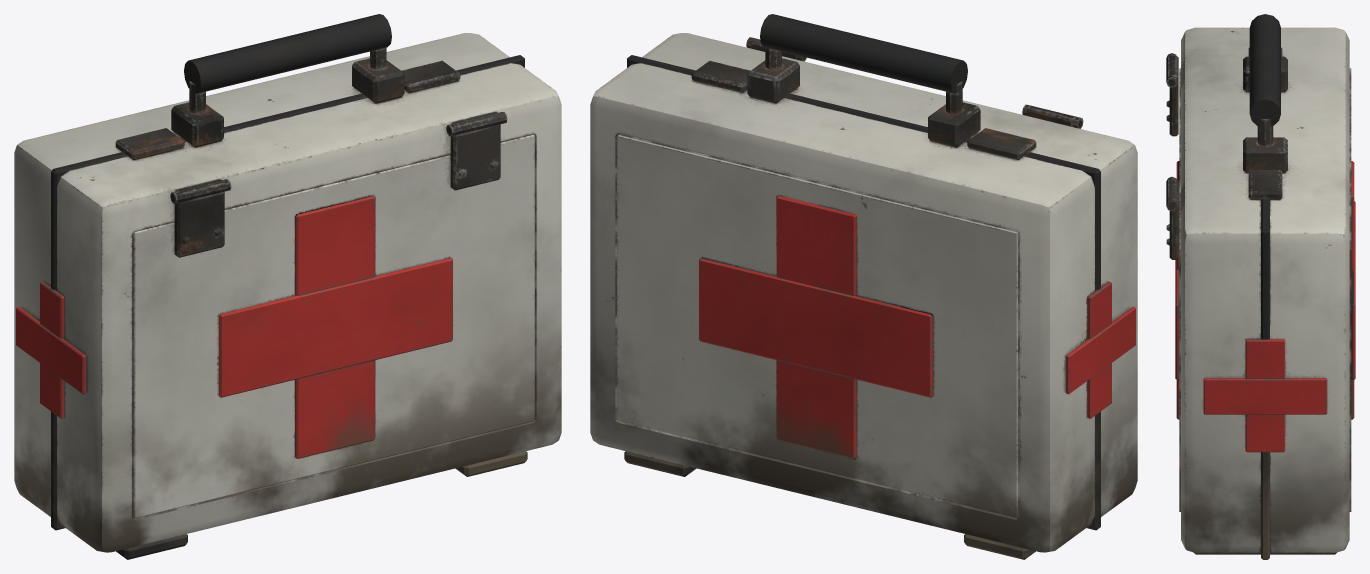
The model's file is health_pack.glb.
3 views of the same model, side by side, from view 1: azimuth 30°, elevation 25°; view 2: azimuth 150°, elevation 25°; view 3: azimuth 270°, elevation 25° (orthographic). The views are drawn at different scales.
Parts seen in each view (by area): view 1: Model; view 2: Model; view 3: Model.
Part boxes in pixels (x1,y1,x2,y2): Model: (14, 14, 561, 559); Model: (590, 14, 1137, 559); Model: (1166, 14, 1355, 559).
Bounding box in the file's own units: 0.4504 × 0.401 × 0.1682.
Materials: 1 (1 with a texture image).
